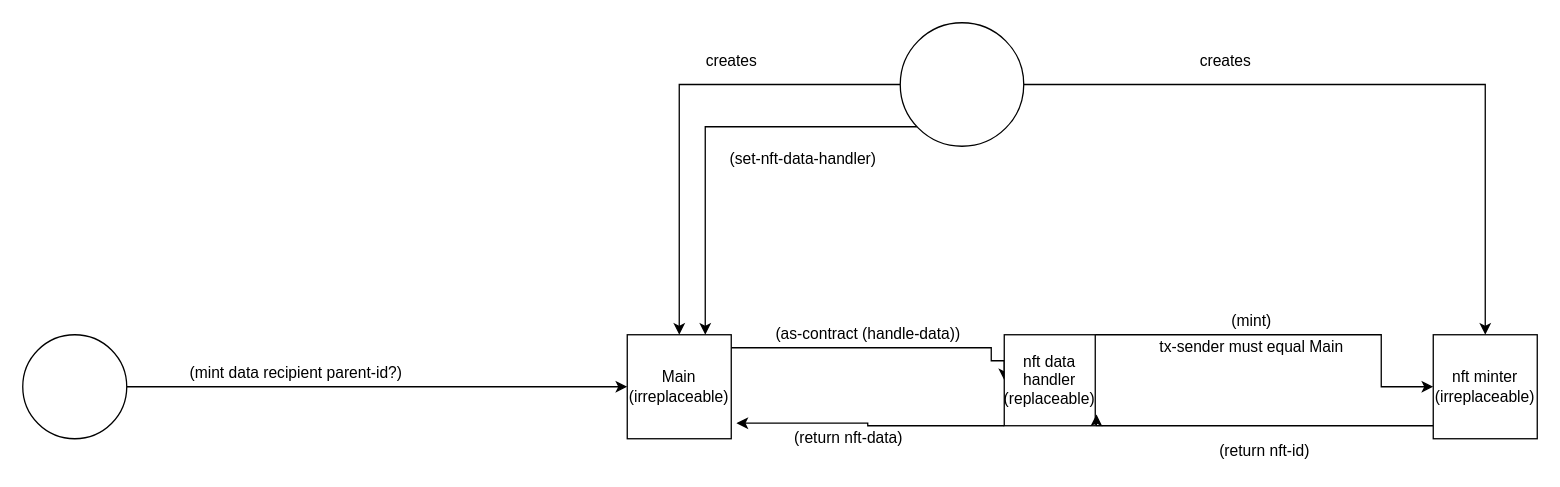
This 1560x487 diagram has some shape labels left out. Here are the shapes that lost their labels. From the top down, the centre of each, then its label:
(961,83): Admin
(74,386): user
